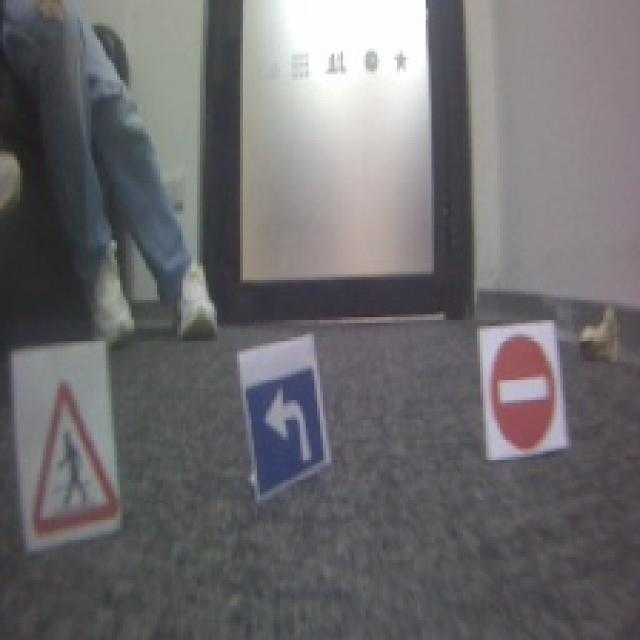DoNotEnterSign: (489, 329, 557, 450)
